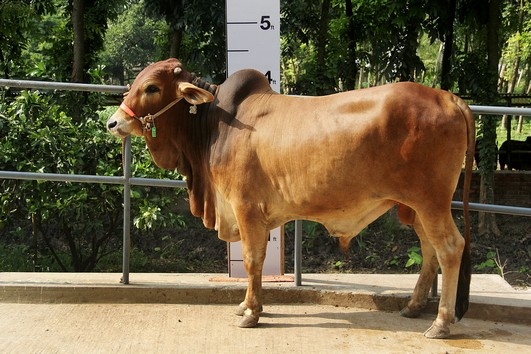cow: (96, 55, 475, 342)
